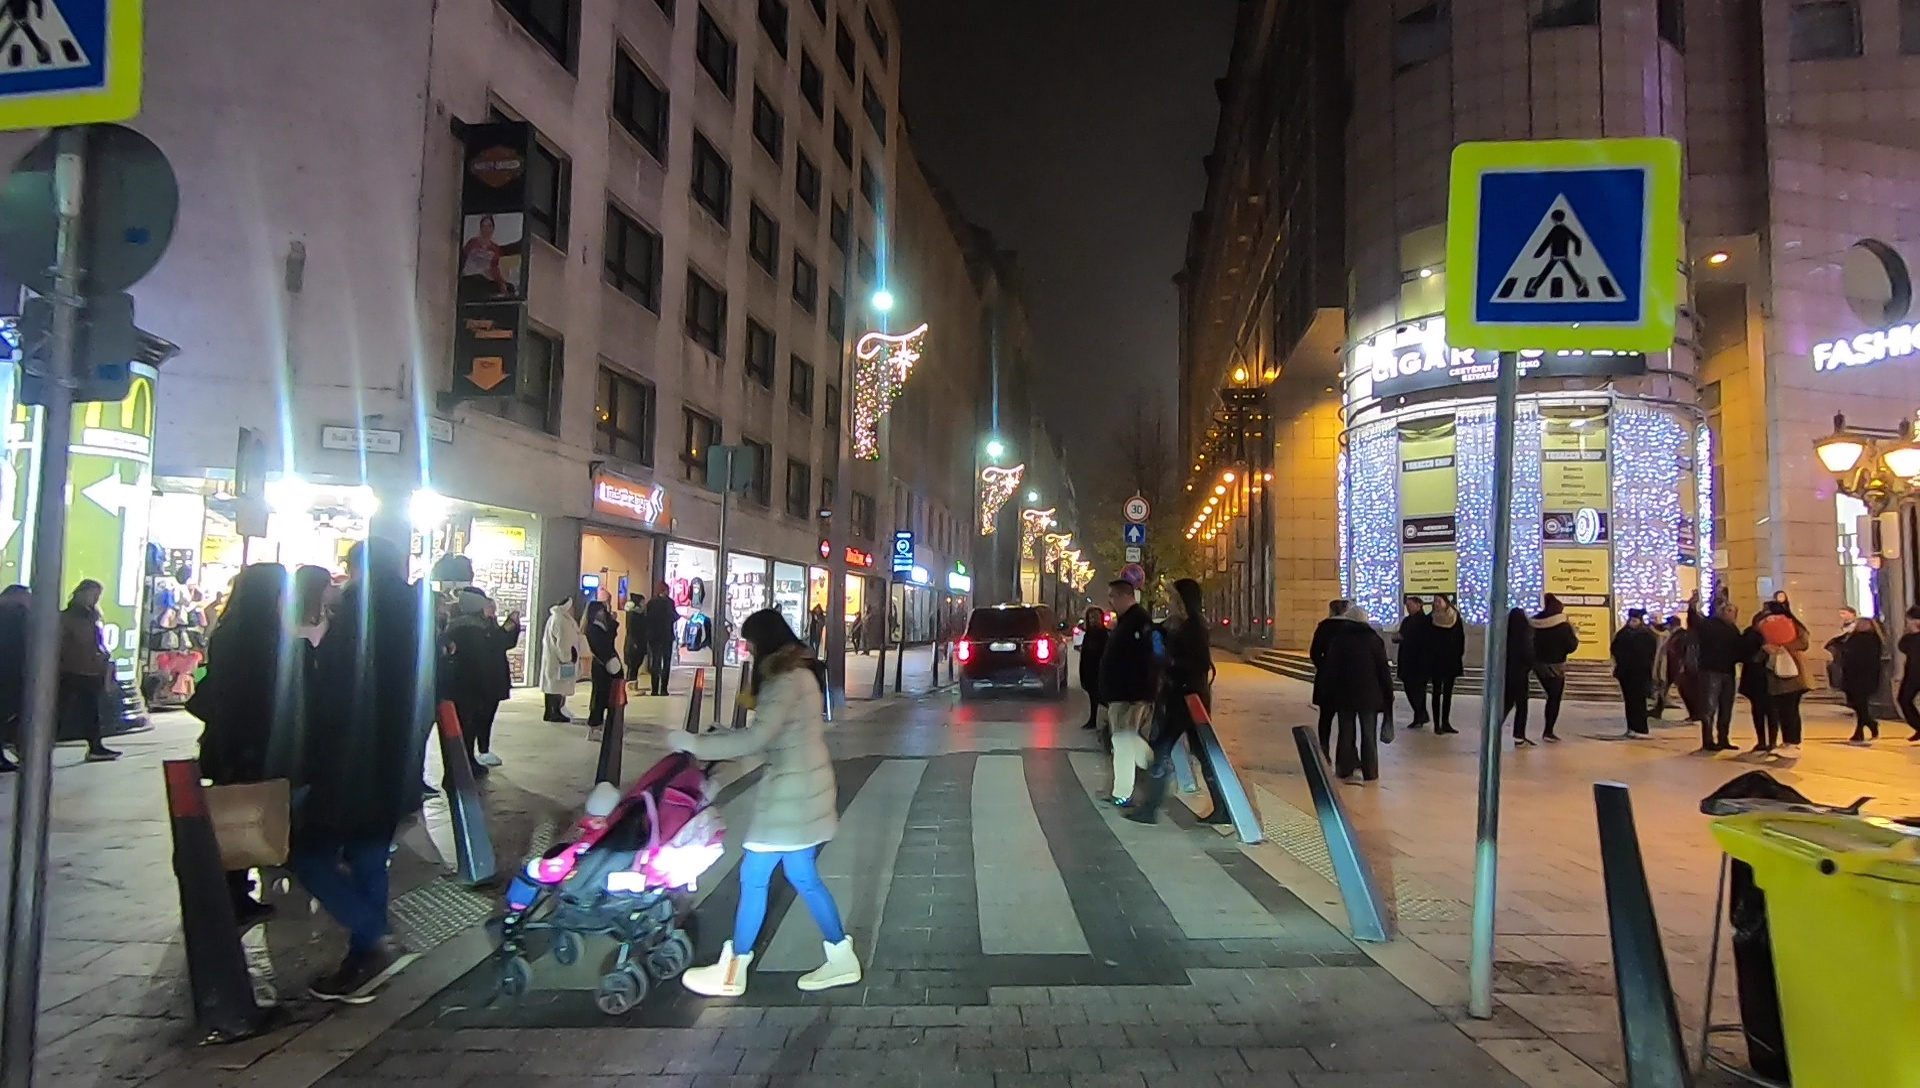person: (697, 611, 871, 1008), (321, 547, 419, 1011), (201, 560, 287, 917), (1136, 582, 1232, 824), (291, 564, 330, 914), (1103, 580, 1159, 800), (62, 578, 115, 763), (1689, 597, 1741, 748), (448, 593, 486, 784), (1339, 609, 1380, 781), (481, 593, 519, 773), (1311, 597, 1351, 764), (1759, 594, 1813, 711), (1534, 592, 1572, 745), (1741, 606, 1779, 757), (536, 597, 580, 725), (1841, 617, 1886, 743), (1610, 610, 1654, 738), (1430, 591, 1462, 736), (1500, 603, 1532, 753), (585, 599, 619, 743), (1079, 606, 1113, 728), (1660, 616, 1697, 728), (1399, 597, 1429, 729), (649, 584, 675, 697), (622, 593, 644, 698)
